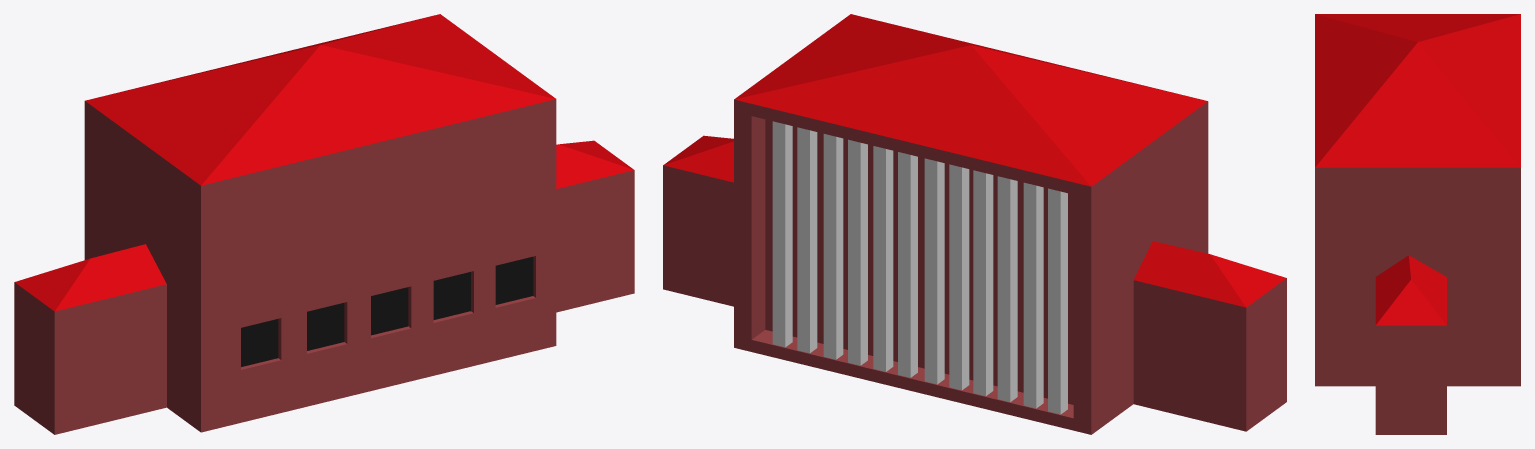
Rendered from school.fbx.
The picture shows the model from 3 angles, left to right: view 1: azimuth 30°, elevation 25°; view 2: azimuth 150°, elevation 25°; view 3: azimuth 270°, elevation 25°; orthographic projection. The views are drawn at different scales.
Parts seen in each view (by area): view 1: Cube; view 2: Cube, Cube.009; view 3: Cube.
Part boxes in pixels (<box>): Cube: <box>14,14,634,434</box>; Cube: <box>663,14,1286,434</box>; Cube.009: <box>772,121,1067,414</box>; Cube: <box>1315,14,1520,434</box>.
Bounding box in the file's own units: 576 × 287 × 200.
